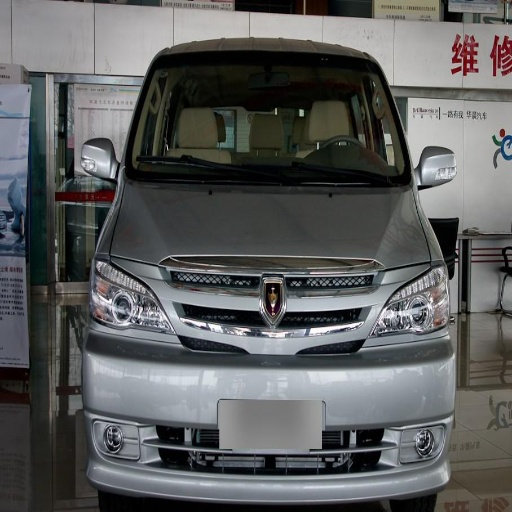front_bumper: (89, 263, 456, 506)
front_right_light: (92, 256, 169, 334)
hood: (107, 180, 429, 274)
left_mirror: (418, 145, 456, 189)
